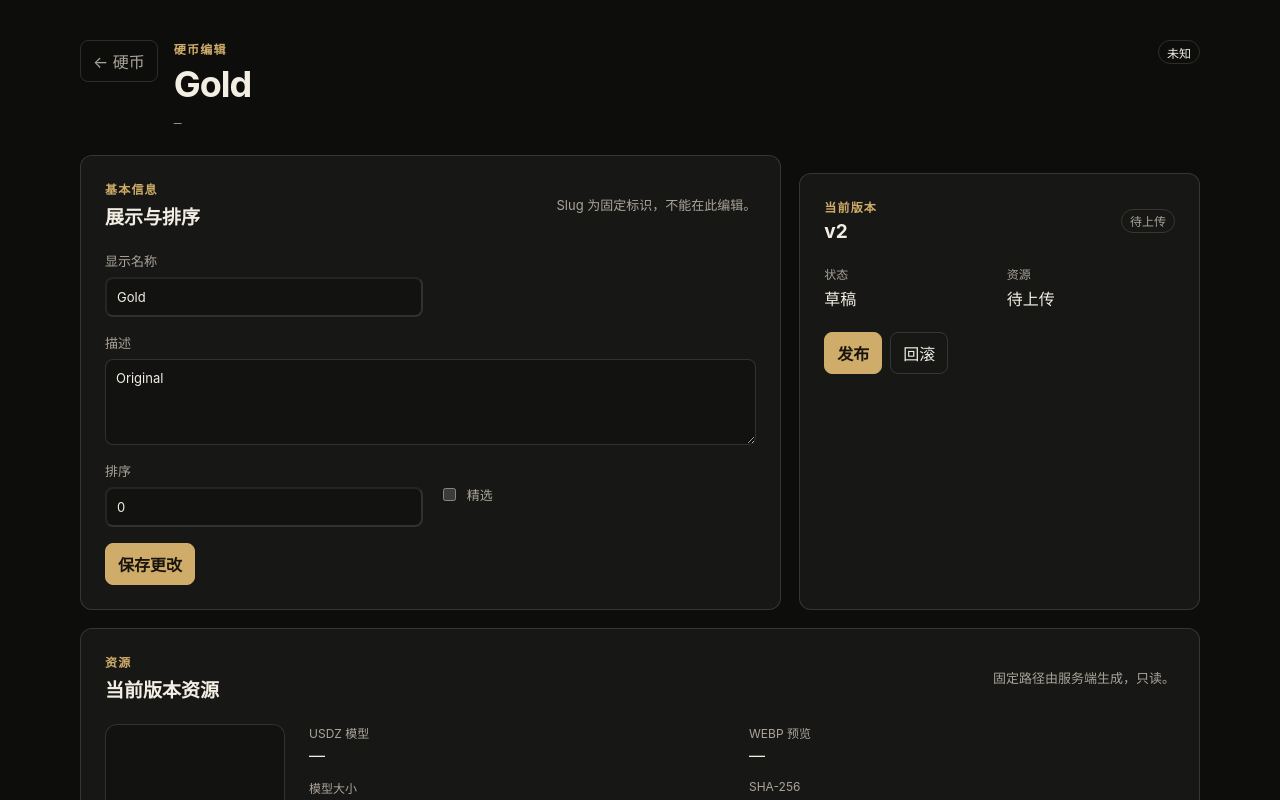
Test case: CoinEditorView › announces a successful publication after the version refreshes
Click the button with test id "publish" at point(853, 353), box x1=824 y1=332 x2=882 y2=374
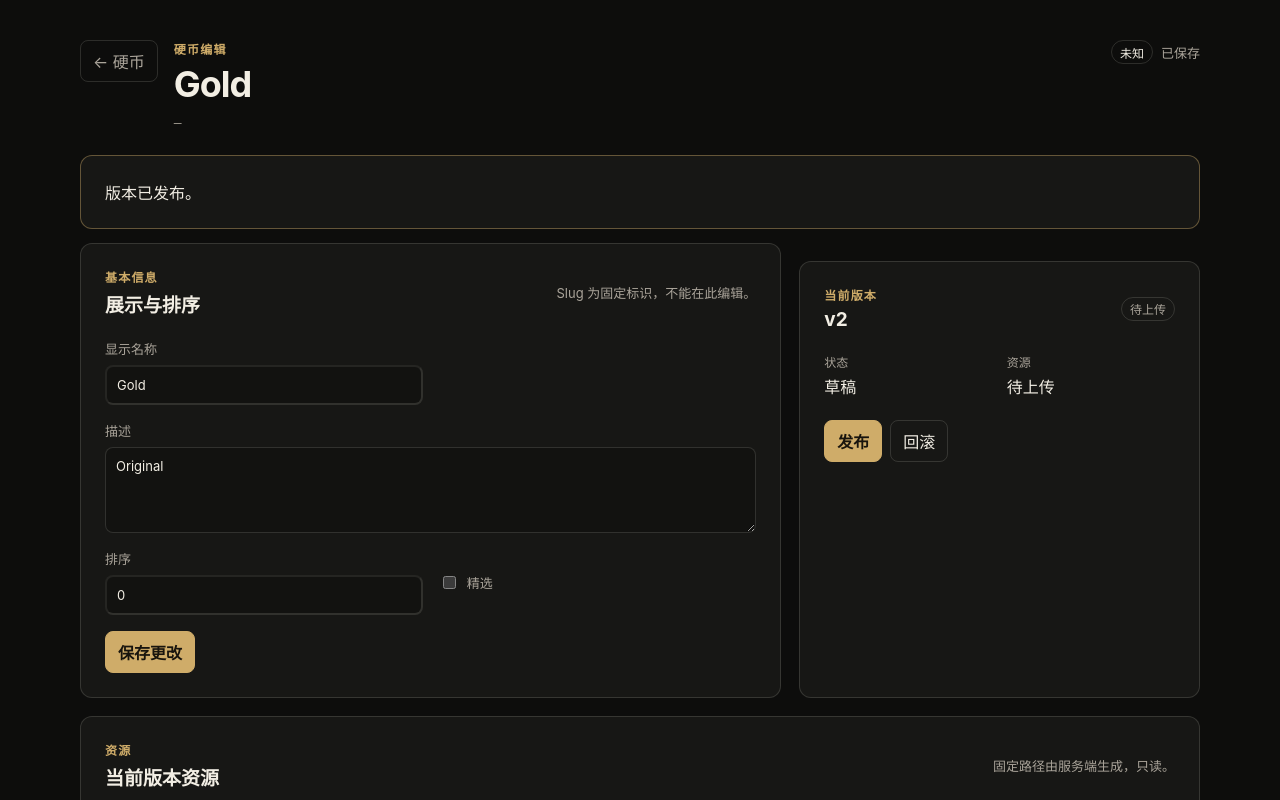
Expected: the message "版本已发布。" is shown, x1=80 y1=155 x2=1200 y2=229
